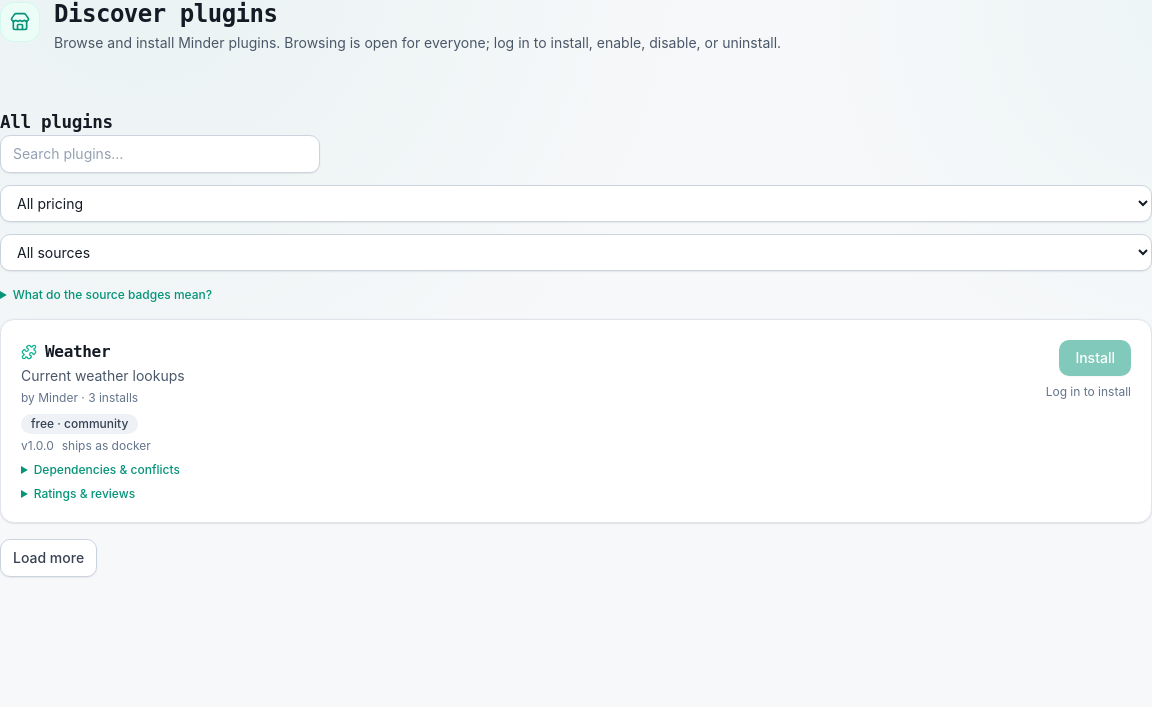
Test: AvailablePluginsPage › shows a Load more button when more results exist, and fetches the next page
The width and height of the screenshot is (1152, 707).
Check: the heading "Weather" is shown, box [21,342,110,361]
Click the button "Load more".
click(49, 558)  # box [0,539,97,577]
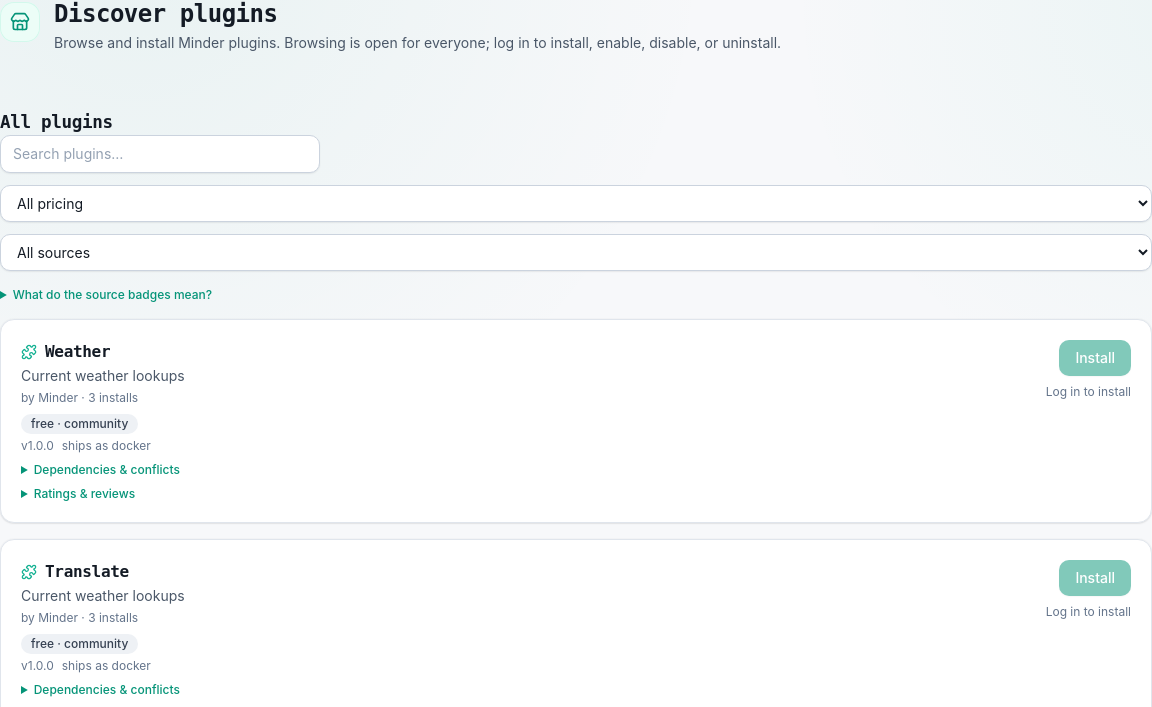
Check: the heading "Translate" is shown, box [21,562,129,581]
